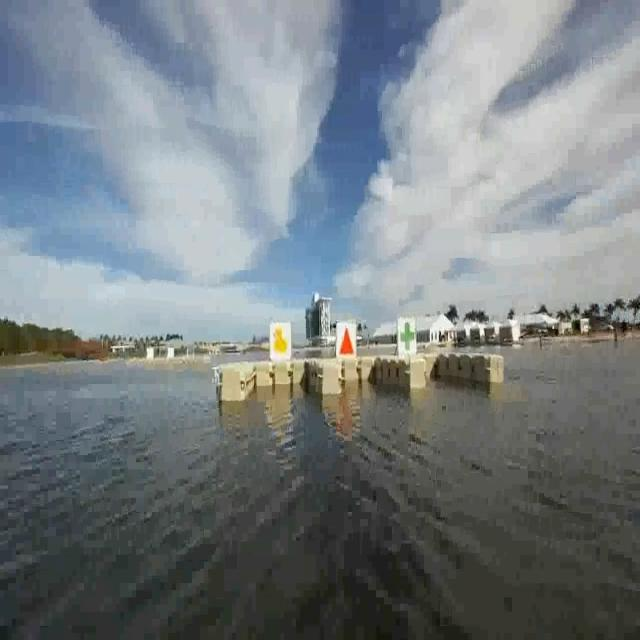blue-cross: (398, 317, 417, 351)
red-dot: (334, 322, 355, 357)
yellow-duck: (271, 323, 289, 358)
